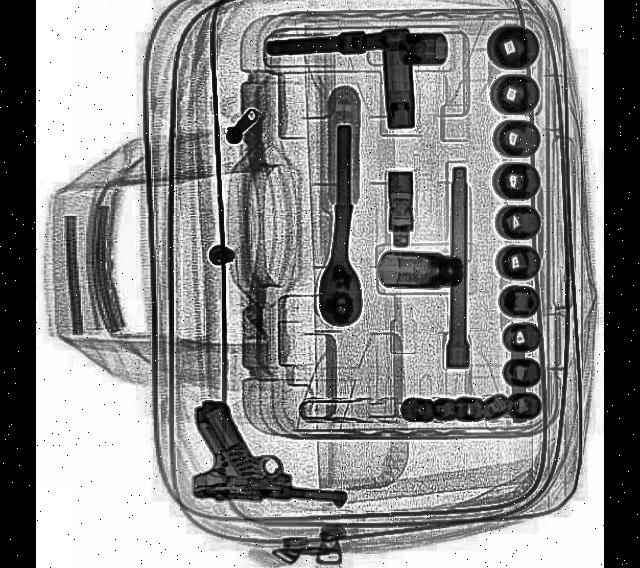Gun: (188, 396, 350, 510)
